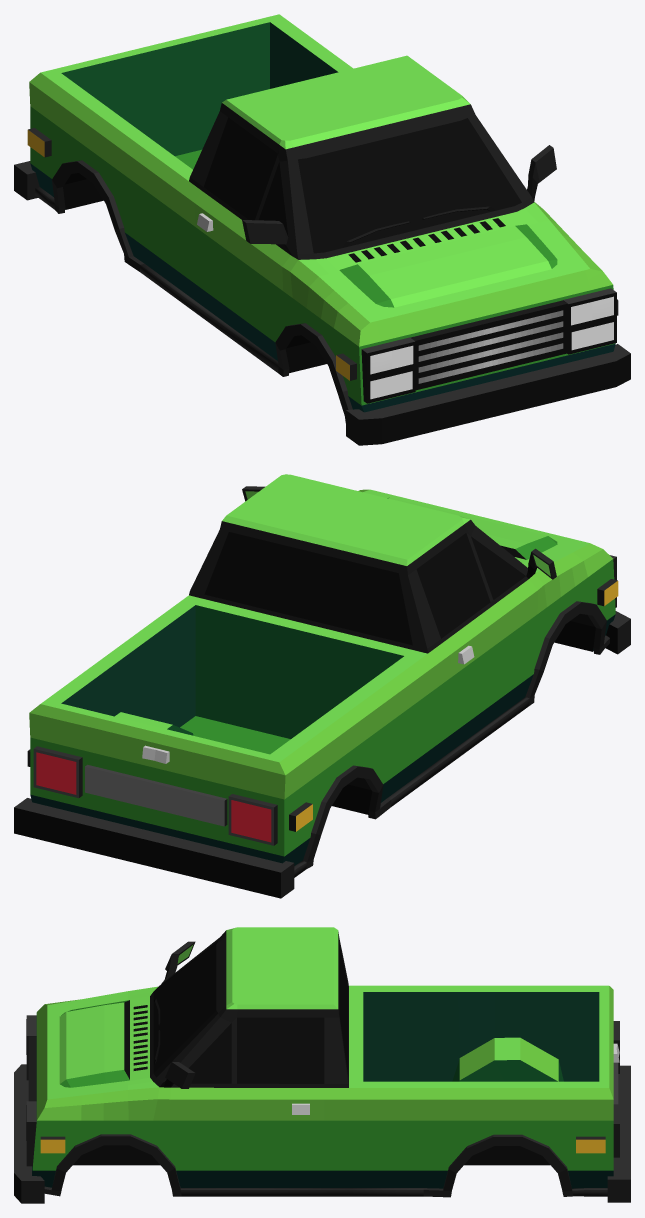
File: PickUp.006.fbx
3 views of the same model, one above another, from view 1: azimuth 30°, elevation 25°; view 2: azimuth 150°, elevation 25°; view 3: azimuth 270°, elevation 25° (orthographic). The views are drawn at different scales.
Parts seen in each view (by area): view 1: PickUp.006; view 2: PickUp.006; view 3: PickUp.006.
Part boxes in pixels (left/top/right/bottom): PickUp.006: left=14, top=14, right=630, bottom=445; PickUp.006: left=14, top=474, right=630, bottom=898; PickUp.006: left=14, top=927, right=630, bottom=1203.
Bounding box in the file's own units: 2.02 × 1.28 × 4.
